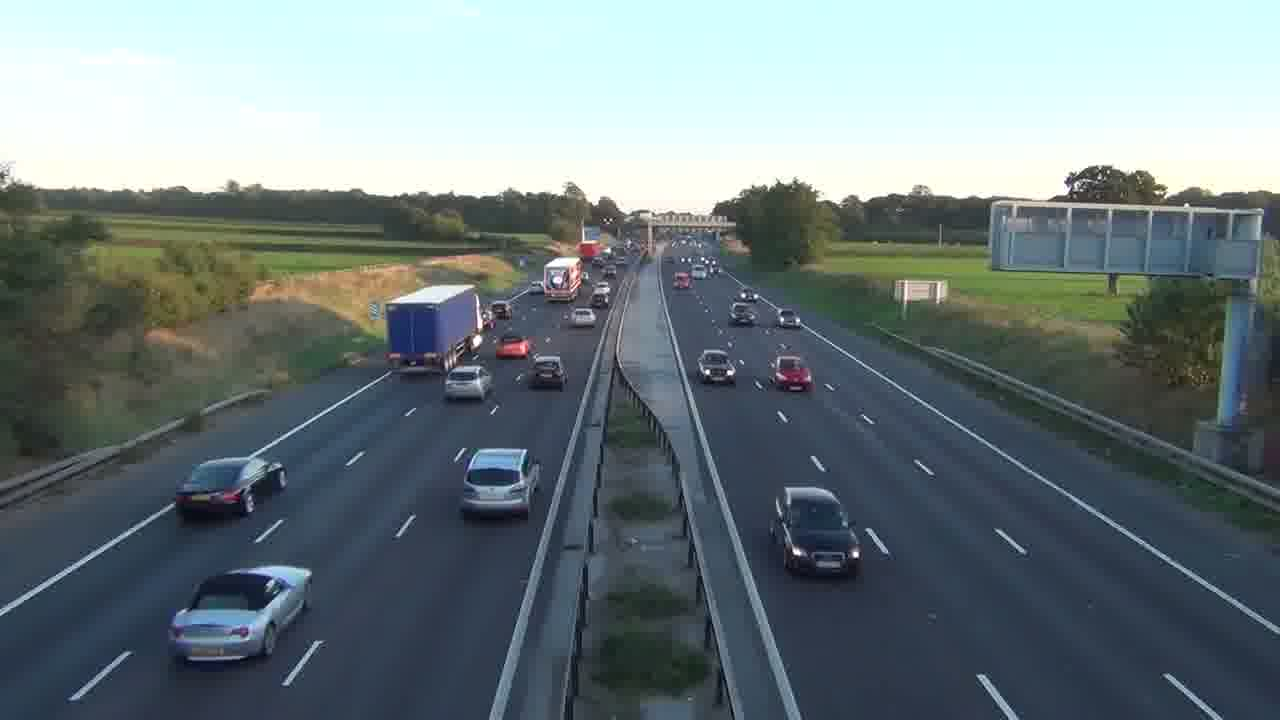car: (168, 563, 313, 665), (769, 485, 863, 579), (174, 456, 287, 519), (459, 447, 542, 519), (444, 363, 494, 402), (768, 354, 814, 392), (697, 349, 738, 386), (528, 353, 566, 389), (563, 306, 596, 329)
truck: (384, 283, 483, 372)
